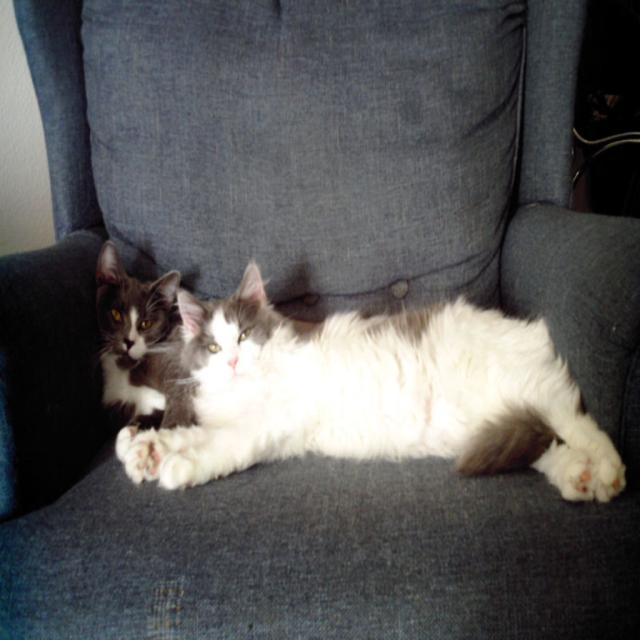Cat: (127, 258, 631, 501), (92, 234, 322, 422)
